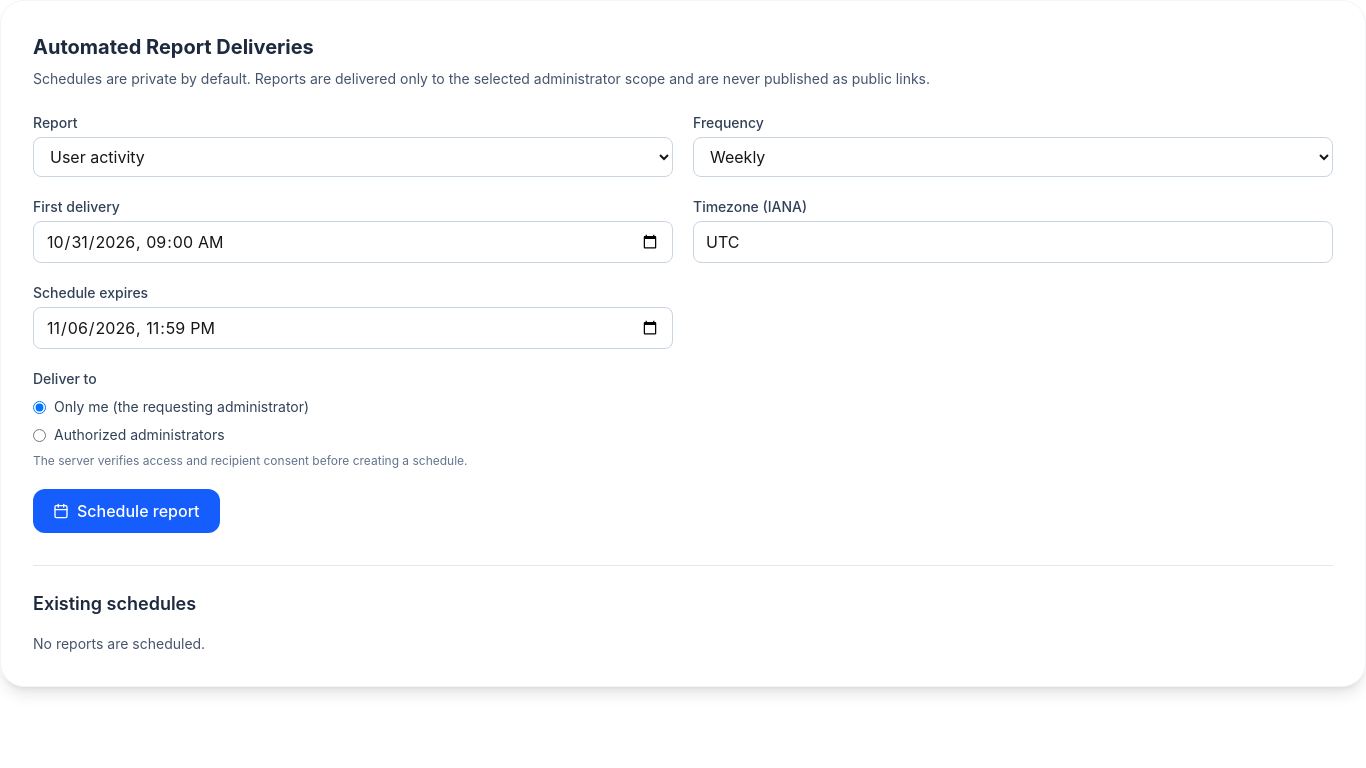
Test: ScheduledReportsPanel › rejects expiry at or before the first delivery without sending a request
This screenshot has width=1366, height=768.
Expected: the text "No reports are scheduled." is shown, [33,635,205,652]
Replace the text in the field labelled "First delivery" with "2027-01-01T09:00" at (353, 242), box [33,221,673,263]
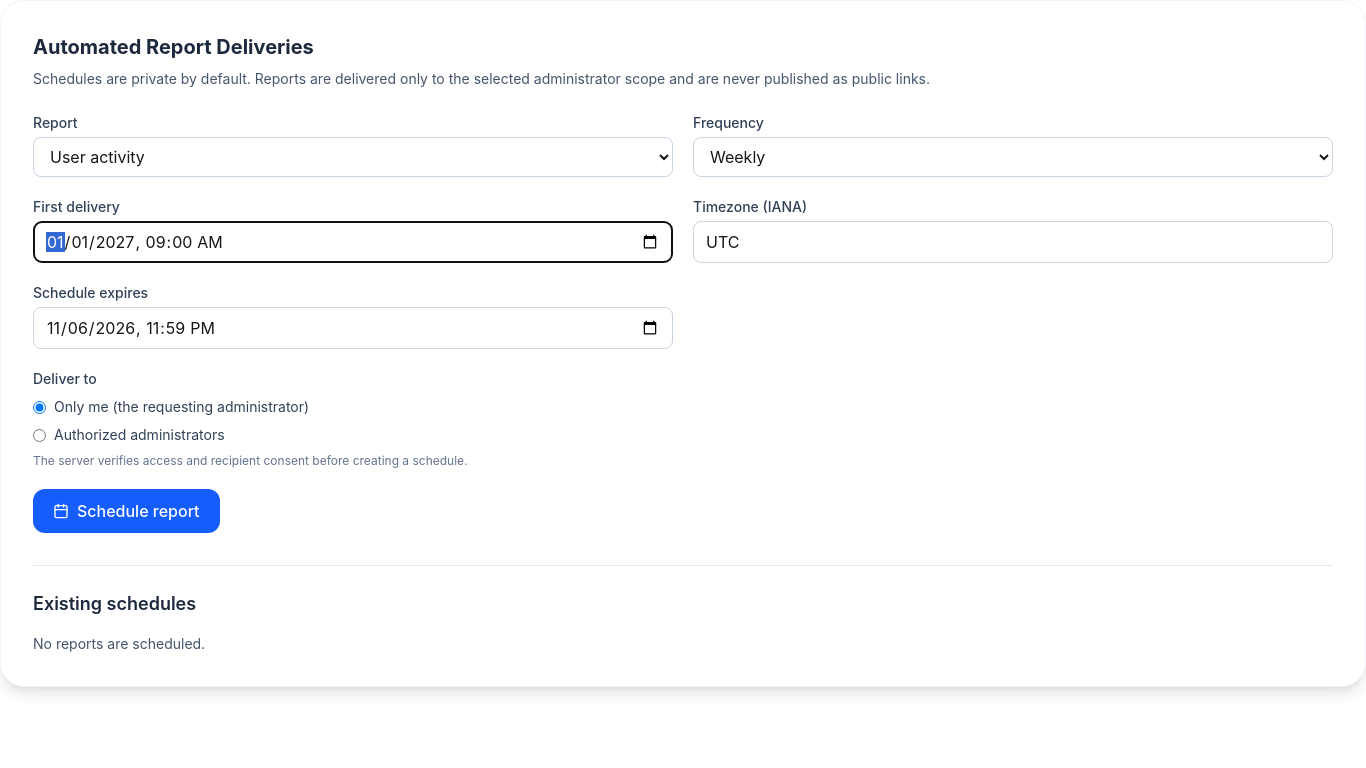
Replace the text in the field labelled "Schedule expires" with "2027-01-01T09:00" at (353, 328), box [33,307,673,349]
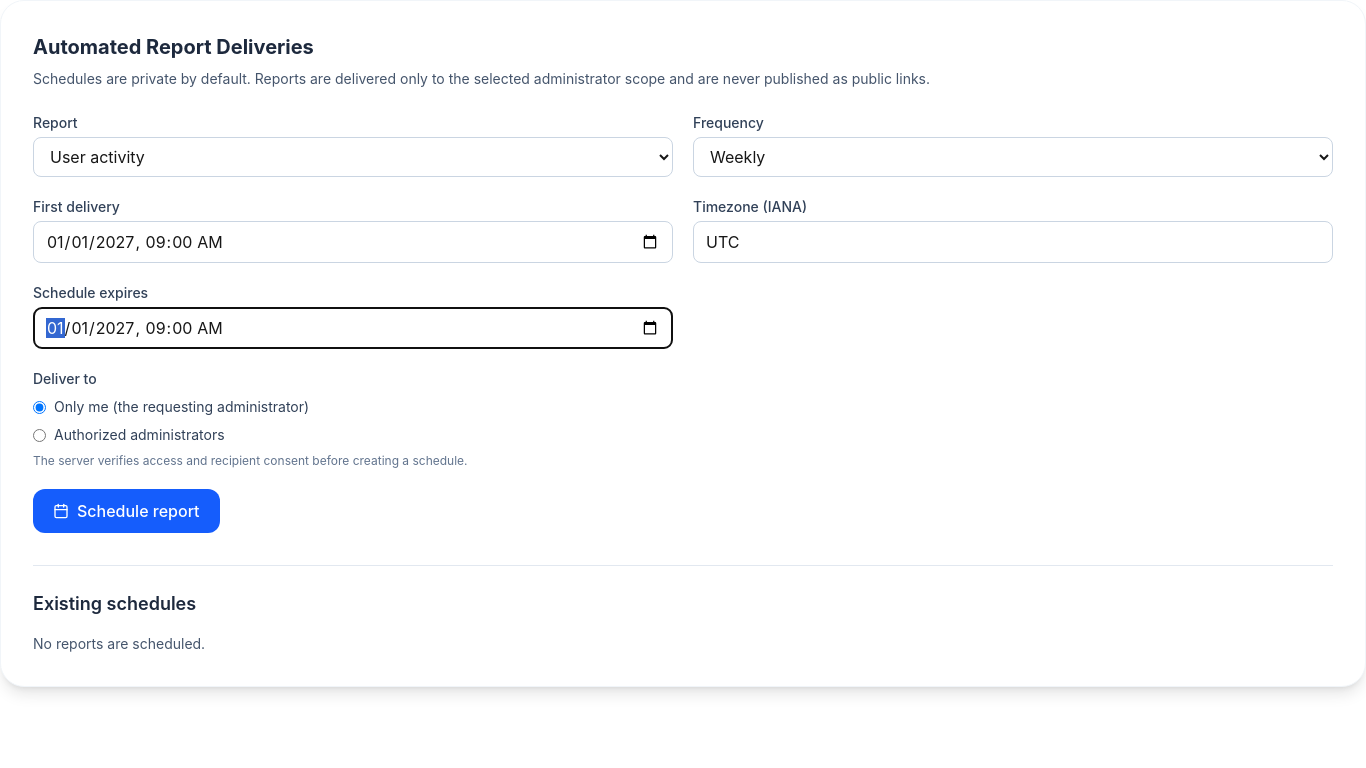
Click the button "Schedule report" at (126, 511), box [33,489,220,533]
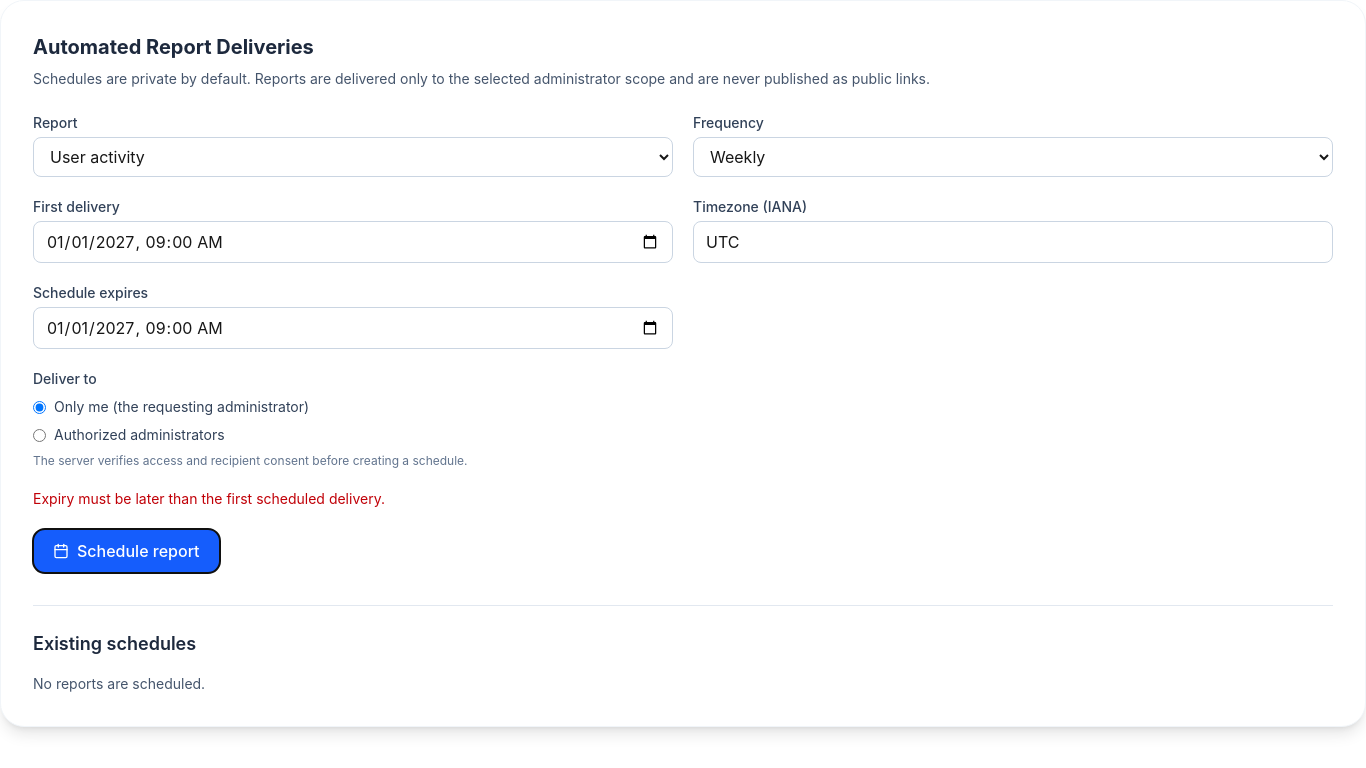
Now the message shows "Expiry must be later", box [33,490,385,507]
